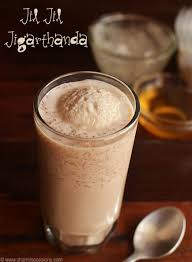jigirthanda: (39, 75, 128, 233)
